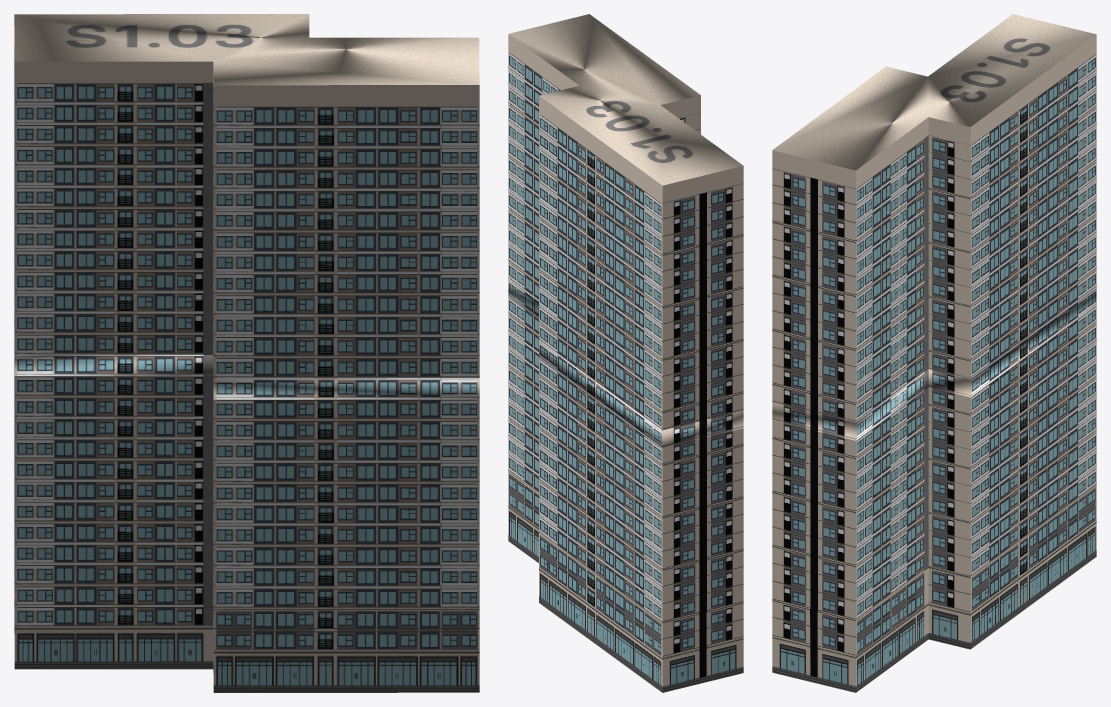
3 views of the same model, side by side, from view 1: azimuth 30°, elevation 25°; view 2: azimuth 150°, elevation 25°; view 3: azimuth 270°, elevation 25° (orthographic). The views are drawn at different scales.
Visible parts, largest first — view 1: Asset3DLoader.sceneRoot; view 2: Asset3DLoader.sceneRoot; view 3: Asset3DLoader.sceneRoot.
Boxes of the visible parts, x1,y1,x2,y2 form: Asset3DLoader.sceneRoot: (14, 14, 479, 692); Asset3DLoader.sceneRoot: (508, 14, 743, 692); Asset3DLoader.sceneRoot: (772, 14, 1096, 692).
Size of the model in its own units: 61.38 by 95.5 by 53.77.
Materials: 1 (1 with a texture image).
